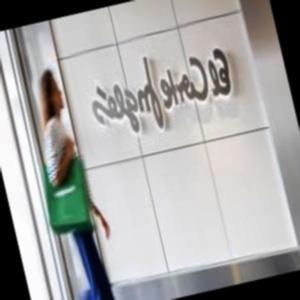corte_ingles: (199, 20, 281, 60)
